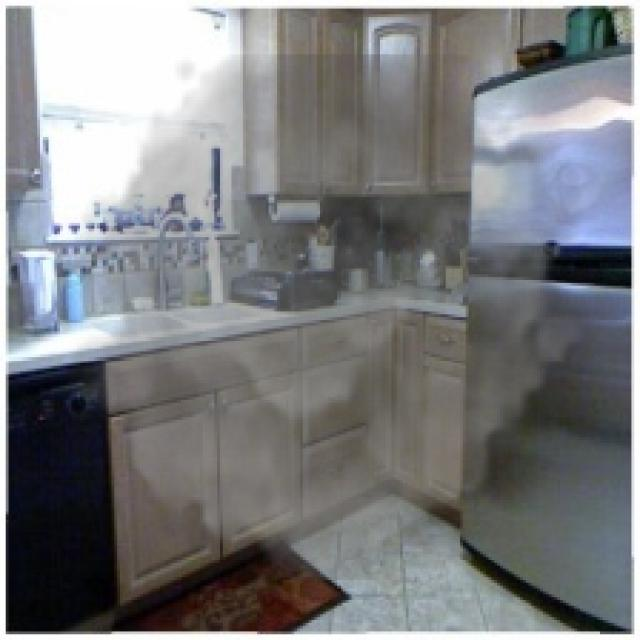smoke: (63, 54, 603, 580)
